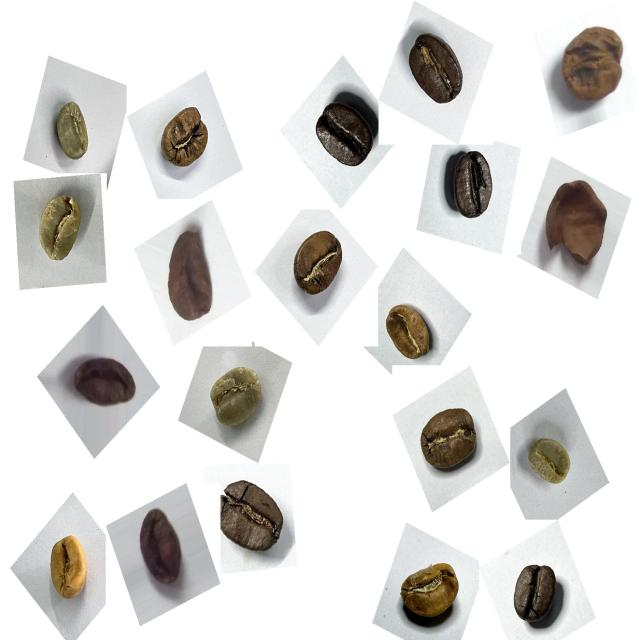bad: (535, 168, 618, 282), (548, 12, 632, 116), (152, 218, 223, 331), (131, 500, 196, 598), (64, 340, 142, 420)
dark: (305, 85, 385, 180), (401, 22, 477, 118), (433, 145, 507, 234), (503, 555, 571, 640)
green: (23, 186, 94, 278), (200, 355, 274, 441), (44, 93, 102, 173), (518, 428, 580, 497)
light: (391, 548, 471, 636), (40, 527, 100, 612), (376, 296, 440, 372)
medium: (207, 469, 293, 566), (410, 397, 488, 482), (282, 219, 353, 308), (150, 98, 219, 179)
